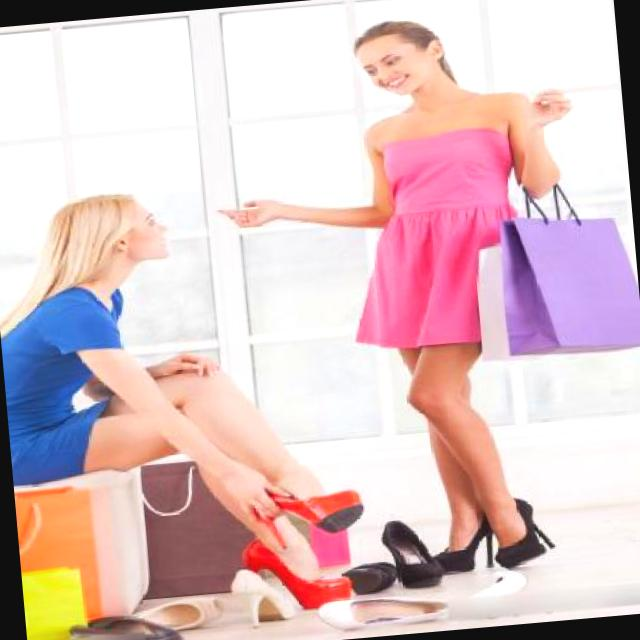Person: (293, 0, 640, 637), (0, 138, 262, 640)
